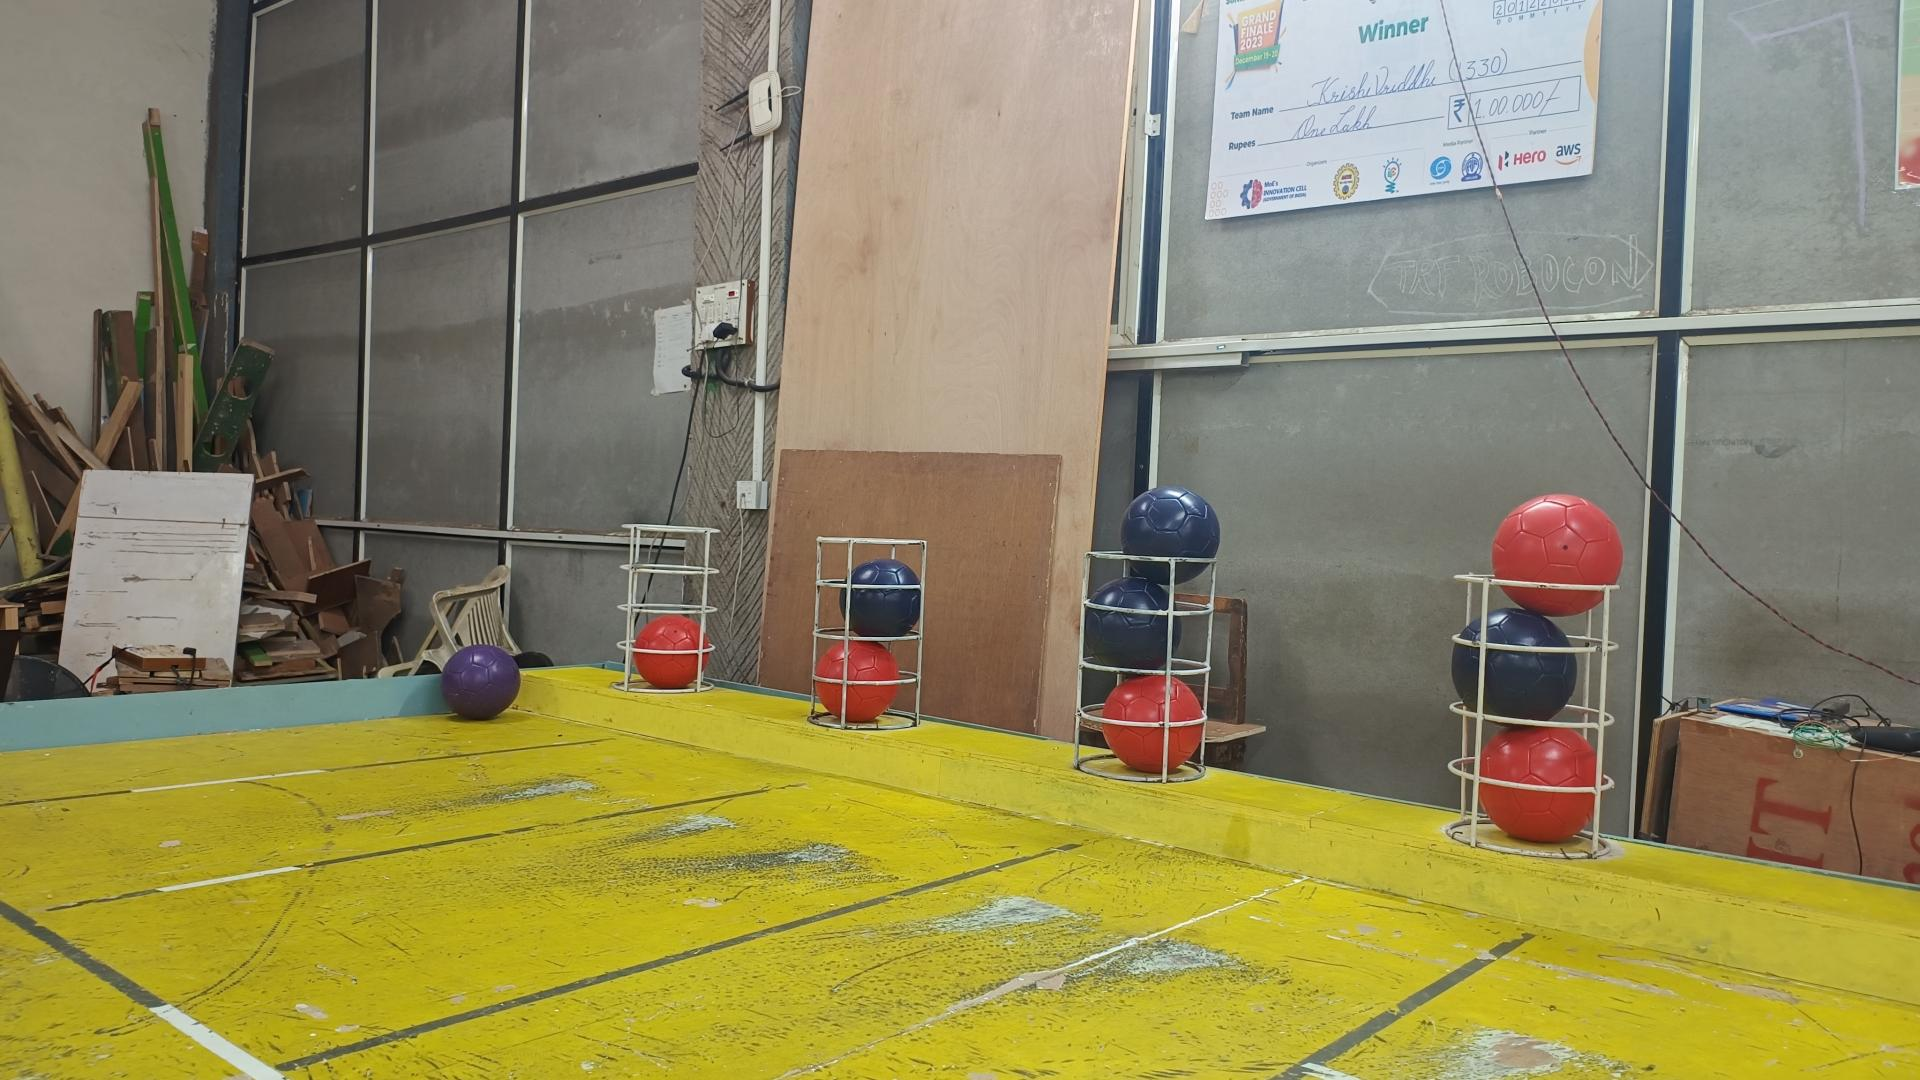dhoka: (1452, 608, 1578, 720), (1121, 488, 1218, 585), (1084, 578, 1182, 671), (840, 559, 923, 637)
laale: (1493, 495, 1623, 615), (1477, 728, 1609, 844), (1102, 675, 1204, 773), (814, 641, 899, 724), (634, 615, 712, 690)
